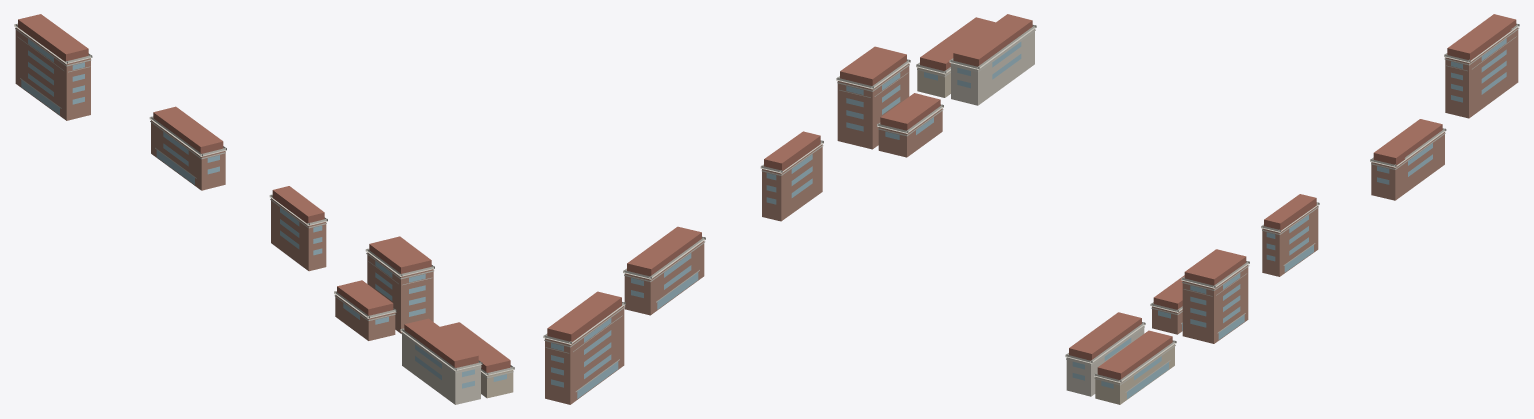
3 views of the same model, side by side, from view 1: azimuth 30°, elevation 25°; view 2: azimuth 150°, elevation 25°; view 3: azimuth 330°, elevation 25° (orthographic). The views are drawn at different scales.
Visible parts, largest first — view 1: building-0079-mesh-30, building-0067-mesh-15, building-0062-mesh-0, building-0071-mesh-20, building-0074-mesh-25, building-0062-mesh-3, building-0079-mesh-33, building-0074-mesh-28, building-0067-mesh-18, building-0063-mesh-8, building-0066-mesh-10, building-0079-mesh-31 (+7 smaller); view 2: building-0079-mesh-30, building-0067-mesh-15, building-0062-mesh-0, building-0071-mesh-20, building-0074-mesh-25, building-0062-mesh-3, building-0079-mesh-33, building-0074-mesh-28, building-0067-mesh-18, building-0063-mesh-8, building-0066-mesh-10, building-0079-mesh-31 (+7 smaller); view 3: building-0079-mesh-30, building-0067-mesh-15, building-0074-mesh-25, building-0071-mesh-20, building-0063-mesh-8, building-0062-mesh-3, building-0079-mesh-33, building-0074-mesh-28, building-0067-mesh-18, building-0063-mesh-5, building-0062-mesh-0, building-0071-mesh-23 (+7 smaller).
Boxes of the visible parts, <box> form: building-0079-mesh-30: <box>15,27,90,120</box>; building-0067-mesh-15: <box>367,252,433,333</box>; building-0062-mesh-0: <box>402,332,480,404</box>; building-0071-mesh-20: <box>271,198,326,271</box>; building-0074-mesh-25: <box>151,120,225,190</box>; building-0062-mesh-3: <box>404,318,478,367</box>; building-0079-mesh-33: <box>18,14,88,61</box>; building-0074-mesh-28: <box>153,106,223,153</box>; building-0067-mesh-18: <box>369,236,431,273</box>; building-0063-mesh-8: <box>440,322,510,372</box>; building-0066-mesh-10: <box>335,295,395,340</box>; building-0079-mesh-31: <box>21,39,84,114</box>; building-0079-mesh-30: <box>545,306,624,404</box>; building-0067-mesh-15: <box>837,63,909,149</box>; building-0062-mesh-0: <box>951,29,1034,105</box>; building-0071-mesh-20: <box>762,144,822,221</box>; building-0074-mesh-25: <box>624,241,704,315</box>; building-0062-mesh-3: <box>953,14,1032,66</box>; building-0079-mesh-33: <box>547,291,621,341</box>; building-0074-mesh-28: <box>627,226,701,276</box>; building-0067-mesh-18: <box>840,46,906,85</box>; building-0063-mesh-8: <box>920,17,995,70</box>; building-0066-mesh-10: <box>878,108,942,157</box>; building-0079-mesh-31: <box>551,318,618,398</box>; building-0079-mesh-30: <box>1445,27,1518,118</box>; building-0067-mesh-15: <box>1182,265,1248,343</box>; building-0074-mesh-25: <box>1371,132,1444,200</box>; building-0071-mesh-20: <box>1262,206,1318,276</box>; building-0063-mesh-8: <box>1097,330,1172,379</box>; building-0062-mesh-3: <box>1069,312,1141,360</box>; building-0079-mesh-33: <box>1447,14,1516,60</box>; building-0074-mesh-28: <box>1373,119,1442,164</box>; building-0067-mesh-18: <box>1184,249,1246,285</box>; building-0063-mesh-5: <box>1095,344,1174,404</box>; building-0062-mesh-0: <box>1066,326,1144,396</box>; building-0071-mesh-23: <box>1264,194,1316,230</box>.
Size of the model in its own units: 19.59 by 17.95 by 220.
